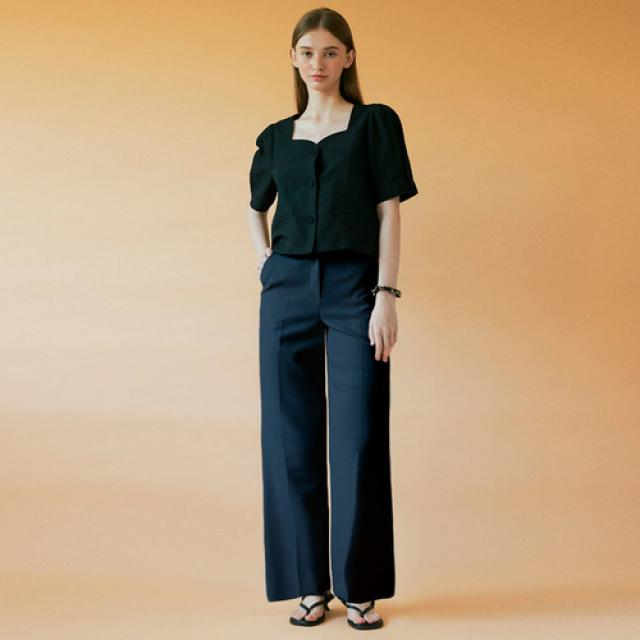Blouse_deep: (262, 251, 394, 601)
